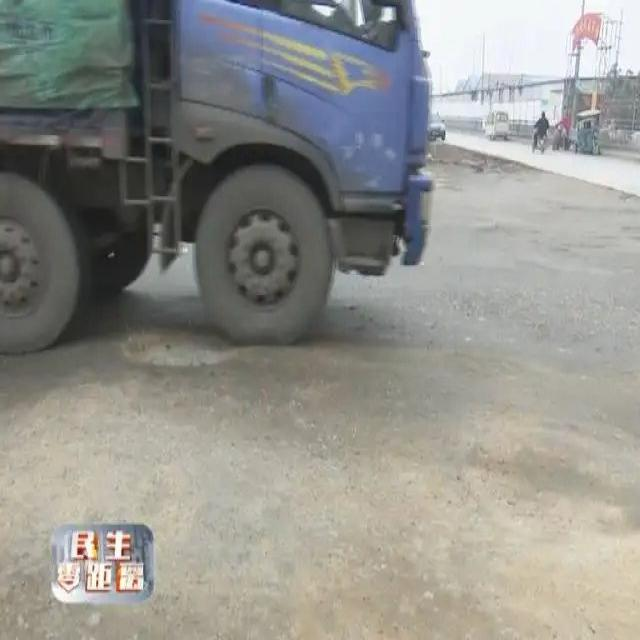Pothole: (119, 329, 238, 370)
